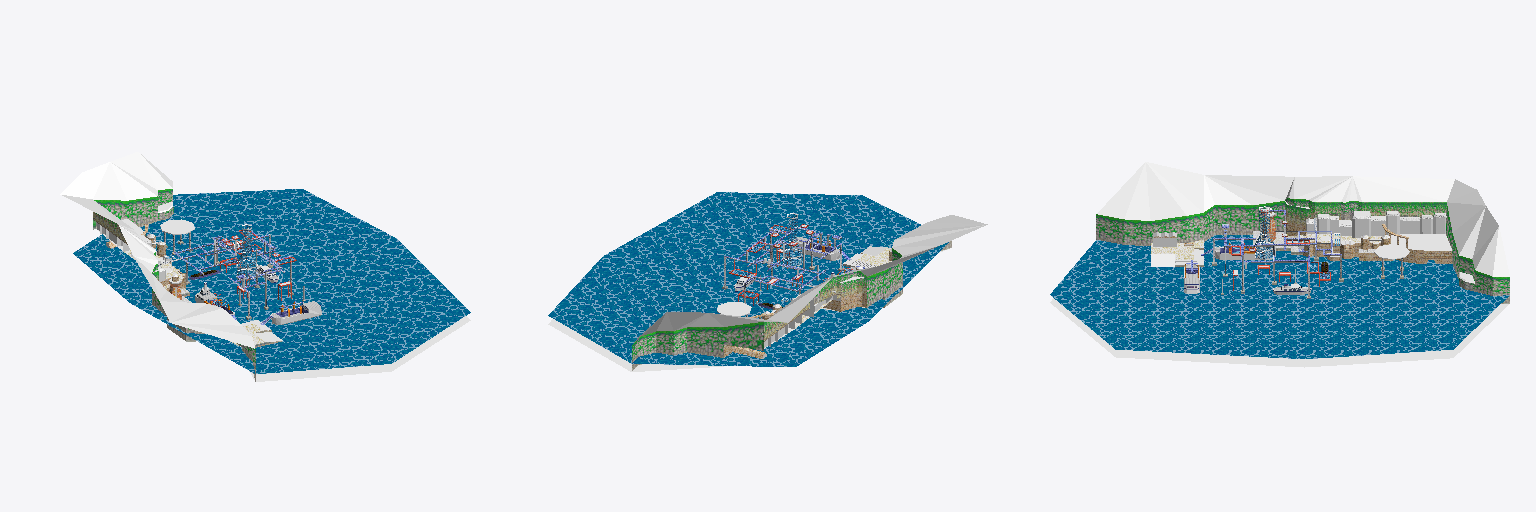
3 views of the same model, side by side, from view 1: azimuth 30°, elevation 25°; view 2: azimuth 150°, elevation 25°; view 3: azimuth 270°, elevation 25° (orthographic).
Parts seen in each view (by area): view 1: Mesh_Mesh.001_Boat_3; view 2: Mesh_Mesh.001_Boat_3; view 3: Mesh_Mesh.001_Boat_3.
Part boxes in pixels (left/top/right/bottom): Mesh_Mesh.001_Boat_3: left=60, top=152, right=470, bottom=381; Mesh_Mesh.001_Boat_3: left=548, top=192, right=987, bottom=371; Mesh_Mesh.001_Boat_3: left=1050, top=162, right=1509, bottom=367.
Bounding box in the file's own units: 9.96 × 2.42 × 12.98.
32 materials, 23 textured.